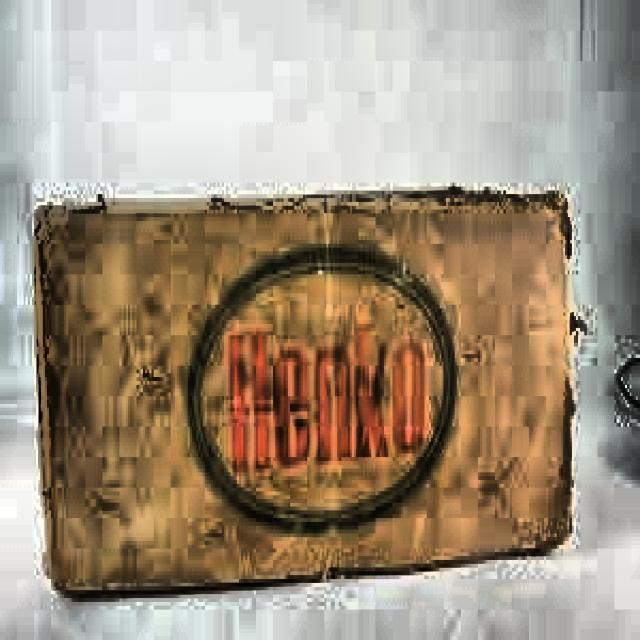Cardbox: (25, 150, 589, 612)
